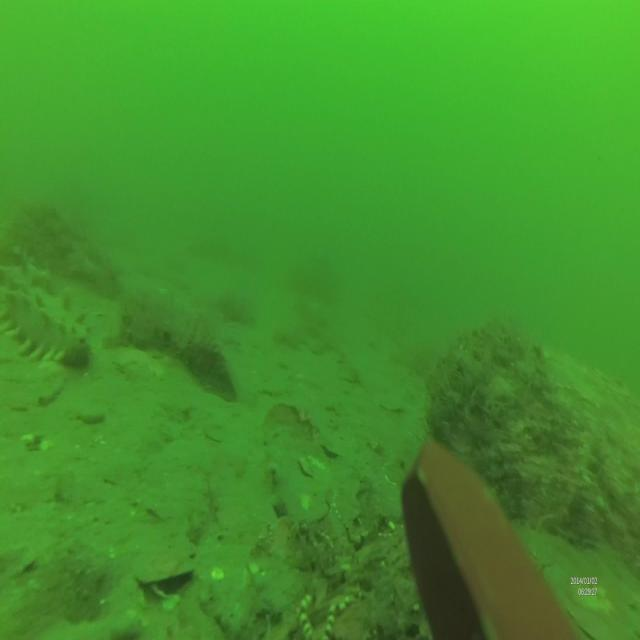holothurian: (0, 276, 89, 364)
